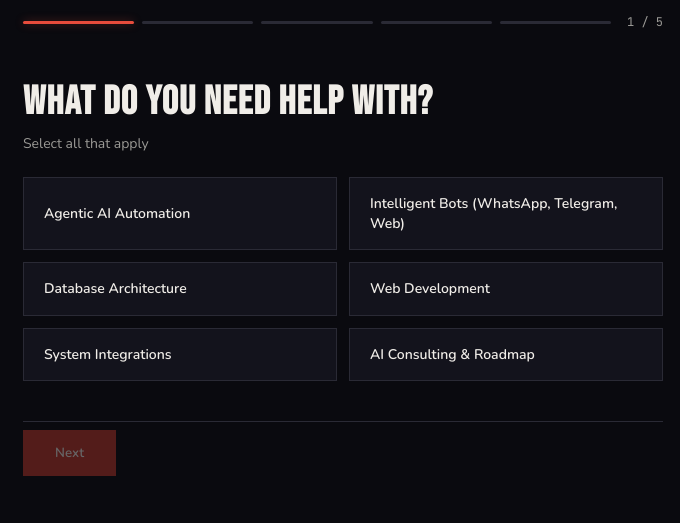
Test: Intake form › advances to Step 2 after selecting a service
This screenshot has width=680, height=523.
Click the button "Agentic AI Automation".
click(180, 214)  # box [23,177,337,250]
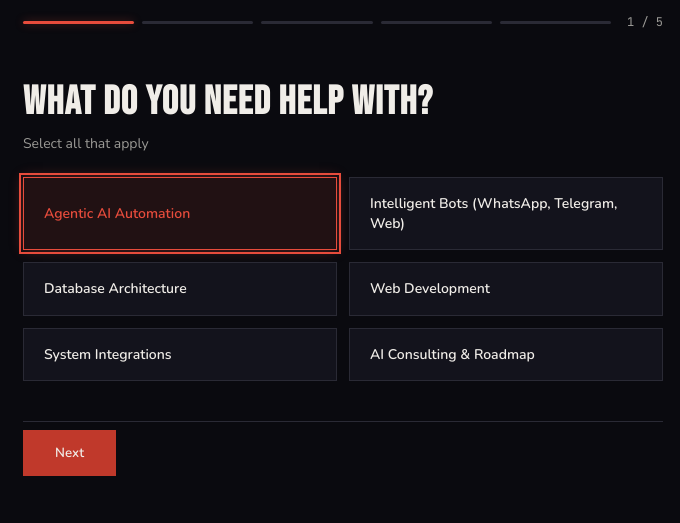
Click the button "Next".
click(70, 453)  # box [23,430,116,476]
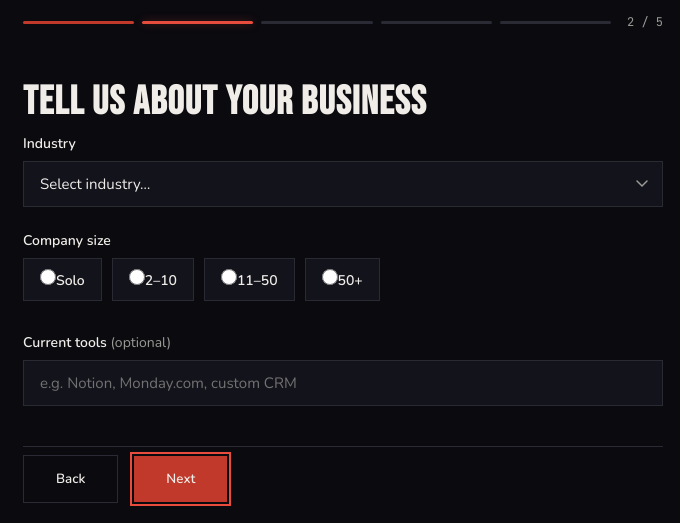
Check: the heading "Tell us about your business" is shown, box [23,78,427,126]
